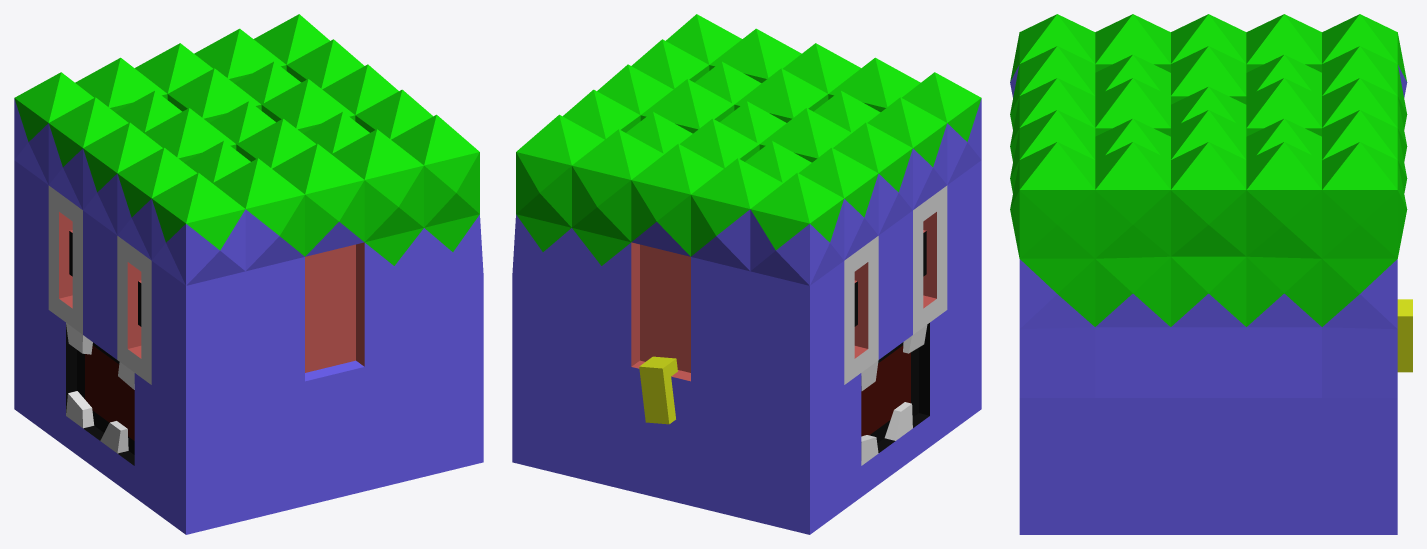
Rendered from playerCube.fbx.
The picture shows the model from 3 angles, left to right: view 1: azimuth 30°, elevation 25°; view 2: azimuth 150°, elevation 25°; view 3: azimuth 270°, elevation 25°; orthographic projection. The views are drawn at different scales.
Parts seen in each view (by area): view 1: Guy; view 2: Guy; view 3: Guy.
Boxes of the visible parts, left/top/right/bottom form: Guy: left=14, top=14, right=483, bottom=534; Guy: left=512, top=14, right=981, bottom=534; Guy: left=1010, top=14, right=1412, bottom=534.
Bounding box in the file's own units: 213 × 220 × 202.
